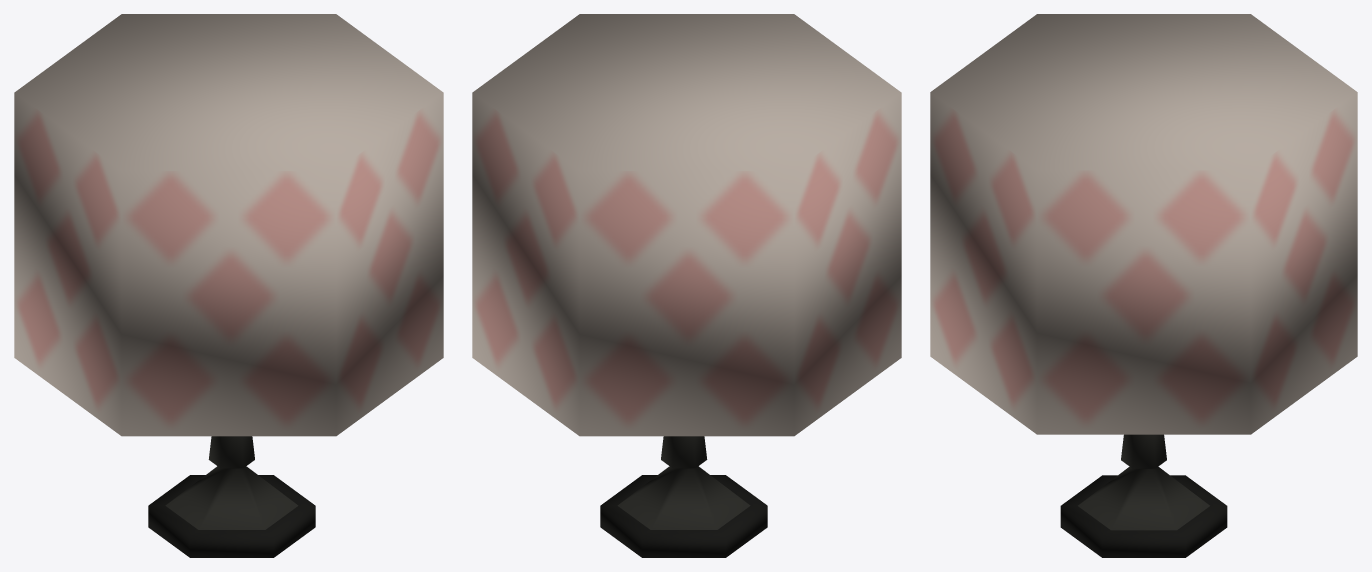
File: lamp.fbx
3 views of the same model, side by side, from view 1: azimuth 30°, elevation 25°; view 2: azimuth 150°, elevation 25°; view 3: azimuth 270°, elevation 25° (orthographic).
Parts seen in each view (by area): view 1: Cylinder.006; view 2: Cylinder.006; view 3: Cylinder.006.
Boxes of the visible parts, box(x1,y1,x2,y2) form: Cylinder.006: box(14, 14, 443, 557); Cylinder.006: box(472, 14, 901, 557); Cylinder.006: box(930, 14, 1357, 557).
Bounding box in the file's own units: 180 × 233 × 208.
Materials: 1 (1 with a texture image).
